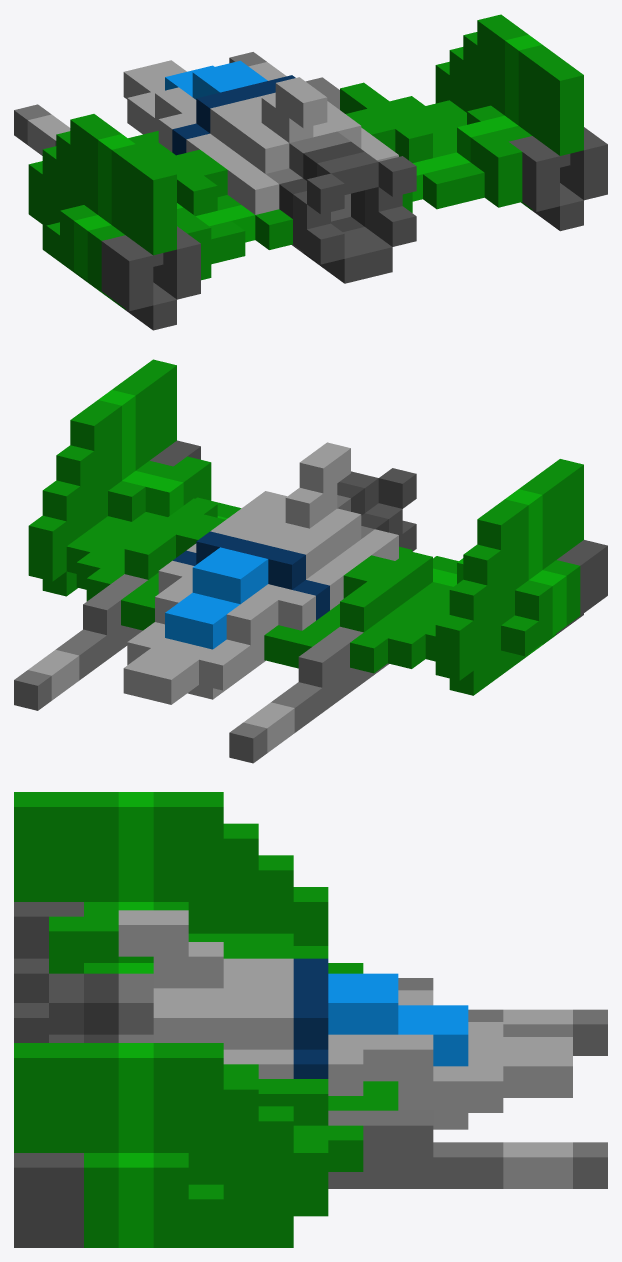
File: player.glb
3 renders of one model, top to bottom at view 1: azimuth 30°, elevation 25°; view 2: azimuth 150°, elevation 25°; view 3: azimuth 270°, elevation 25°, orthographic. The views are drawn at different scales.
Parts seen in each view (by area): view 1: player.001; view 2: player.001; view 3: player.001.
Part boxes in pixels (bbox=[...]): player.001: bbox=[14, 14, 607, 330]; player.001: bbox=[14, 359, 607, 763]; player.001: bbox=[14, 792, 607, 1247].
Bounding box in the file's own units: 2 × 0.6 × 1.7.
Materials: 1 (1 with a texture image).
